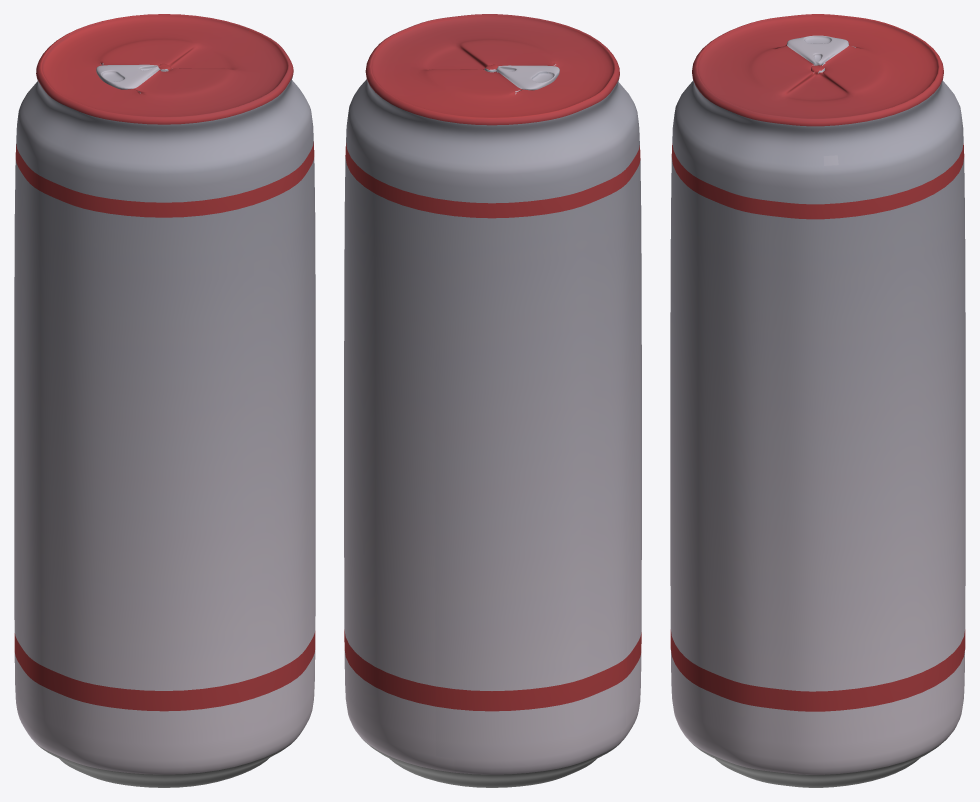
The model's file is Can2.glb.
The picture shows the model from 3 angles, left to right: view 1: azimuth 30°, elevation 25°; view 2: azimuth 150°, elevation 25°; view 3: azimuth 270°, elevation 25°; orthographic projection.
Parts seen in each view (by area): view 1: Monster.White; view 2: Monster.White; view 3: Monster.White.
Part boxes in pixels (x1,y1,x2,y2): Monster.White: [14, 14, 315, 787]; Monster.White: [344, 14, 641, 787]; Monster.White: [670, 14, 965, 787].
Bounding box in the file's own units: 0.4328 × 1.09 × 0.4248.
1 material, 1 textured.
